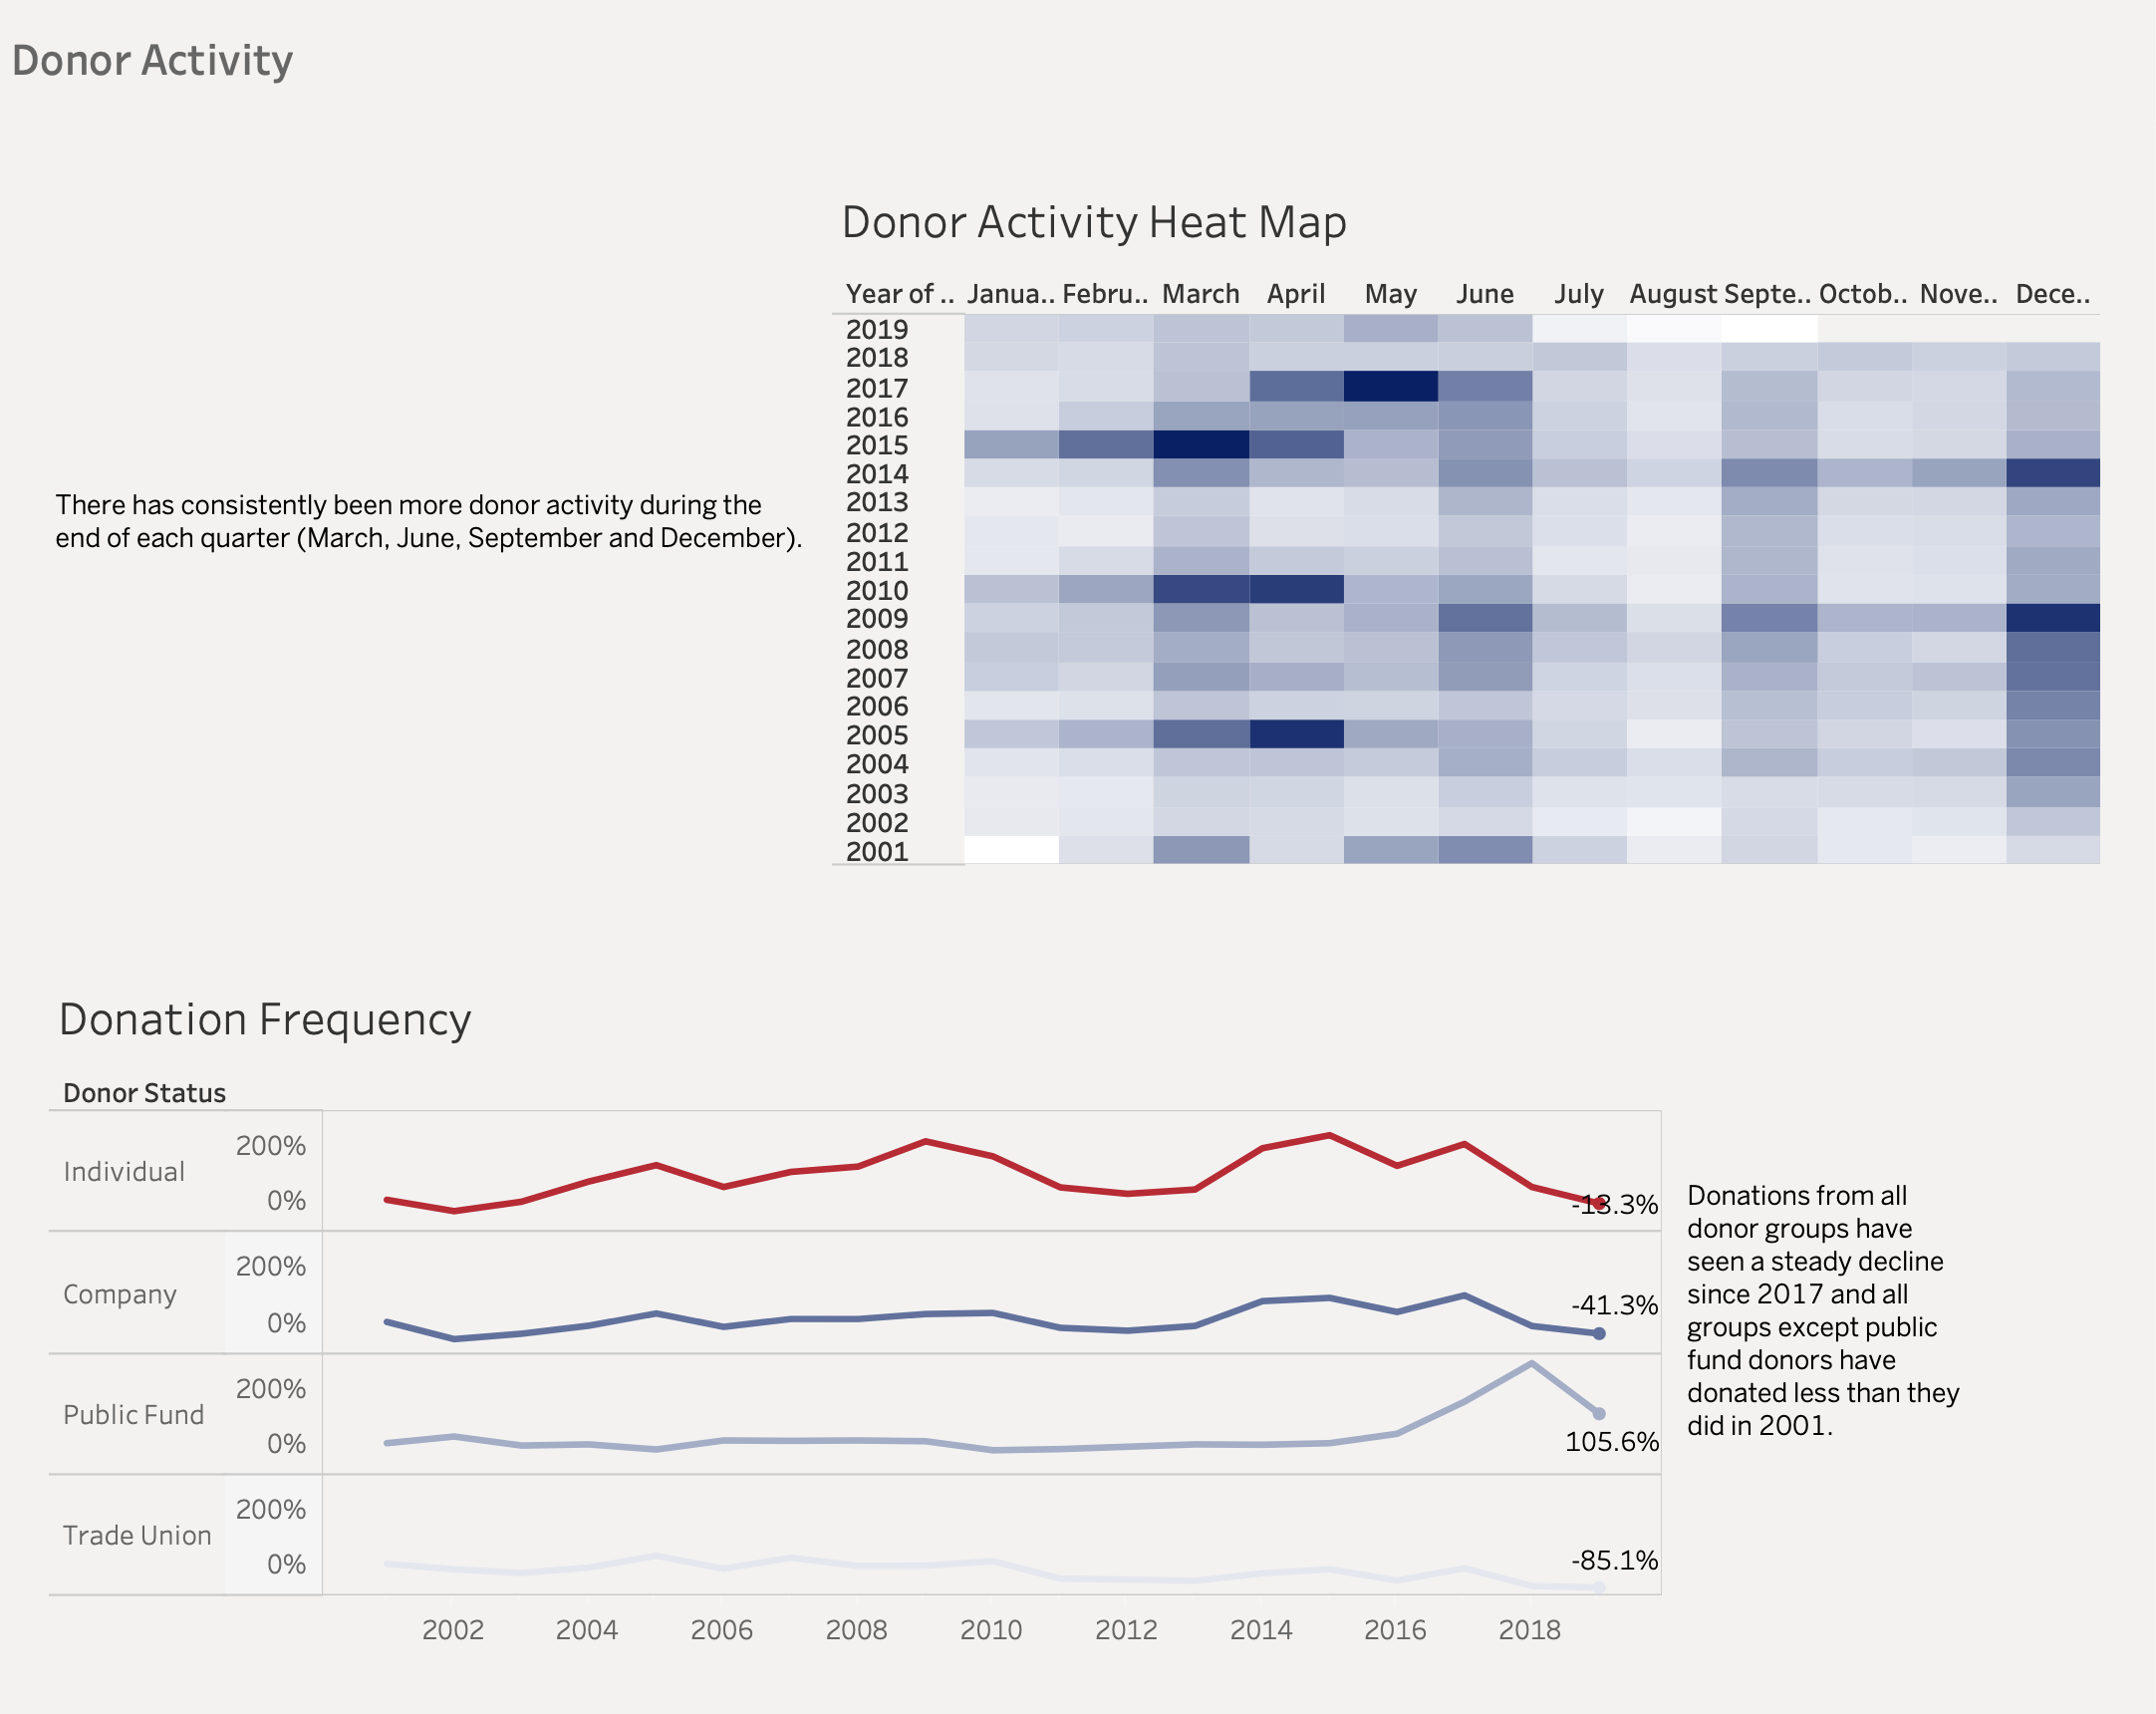

The page's visual inventory and layout, read from the dashboard file:
{"tool":"tableau","page":{"name":"Page 2","canvas":[1000,800],"ordinal":2},"visuals":[{"type":"text","box":[8,8,984,56]},{"type":"legend","title":"Donations By Donor Type vs Time","param":"[federated.07we6dr180747v10gveja160dayo].[none:DonorStatus:nk]","box":[864,37,125,278]},{"type":"worksheet","title":"Donations By Donor Type vs Time","mark":"Automatic","rows":["Calculation_1848586965291671552"],"cols":["ReceivedDate"],"box":[8,66,984,363]},{"type":"text","box":[164,132,319,77]},{"type":"blank","box":[12,433,152,355]},{"type":"text","box":[164,433,240,355]},{"type":"worksheet","title":"Donations By Donor Type","mark":"Area","cols":["ReceivedDate"],"box":[404,433,584,355]}]}

Visuals, with their boxes in screenshot pixels (x1, y1, x2, y2), scaled from the page's 1000x800 canvas onto the 2156x1714 screenshot:
text: [17, 17, 2139, 138]
"Donations By Donor Type vs Time" legend: [1863, 80, 2132, 675]
"Donations By Donor Type vs Time" worksheet: [17, 142, 2139, 919]
text: [354, 283, 1041, 447]
blank: [26, 928, 354, 1688]
text: [354, 928, 871, 1688]
"Donations By Donor Type" worksheet (Area marks): [871, 928, 2130, 1688]
